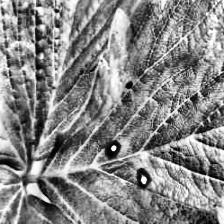Leaf Spot: (33, 0, 224, 224), (0, 0, 158, 174)
